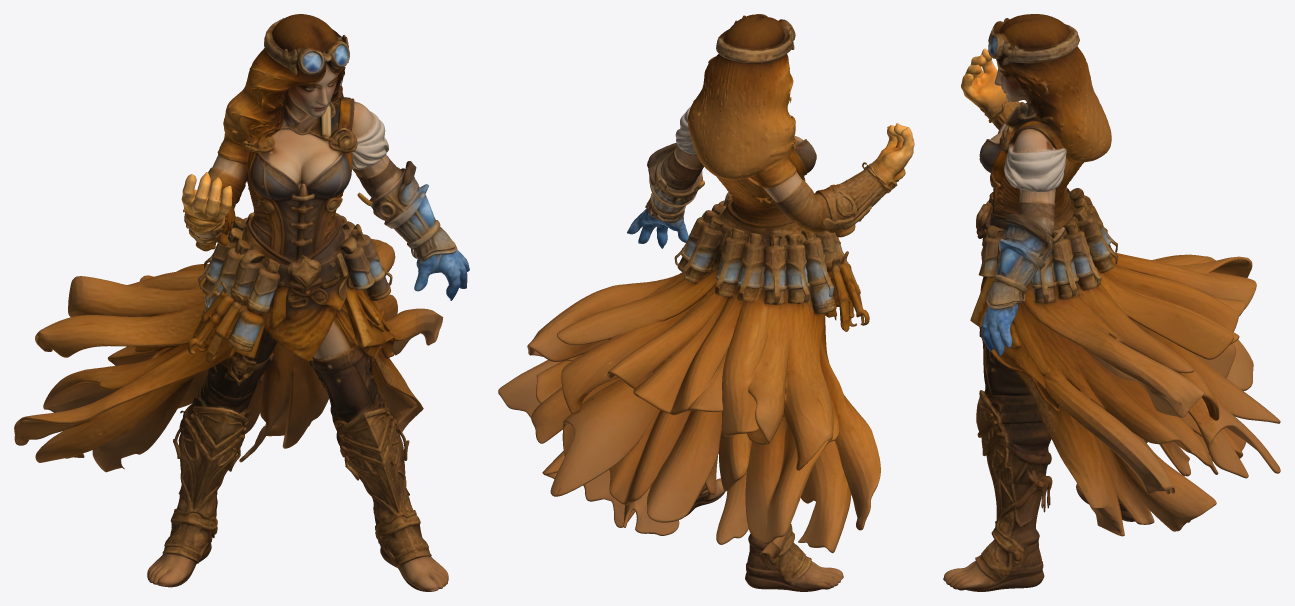
File: artificer_full_female_01.glb
3 views of the same model, side by side, from view 1: azimuth 30°, elevation 25°; view 2: azimuth 150°, elevation 25°; view 3: azimuth 270°, elevation 25° (orthographic). The views are drawn at different scales.
Visible parts, largest first — view 1: material; view 2: material; view 3: material.
Boxes of the visible parts, x1=… form: material: x1=14, y1=14, x2=469, y2=591; material: x1=498, y1=14, x2=914, y2=591; material: x1=943, y1=14, x2=1280, y2=591.
Size of the model in its own units: 0.7812 by 1.01 by 0.5853.
1 material, 1 textured.
